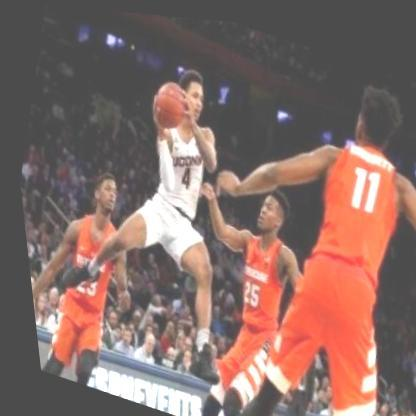basketball: (141, 70, 194, 135)
